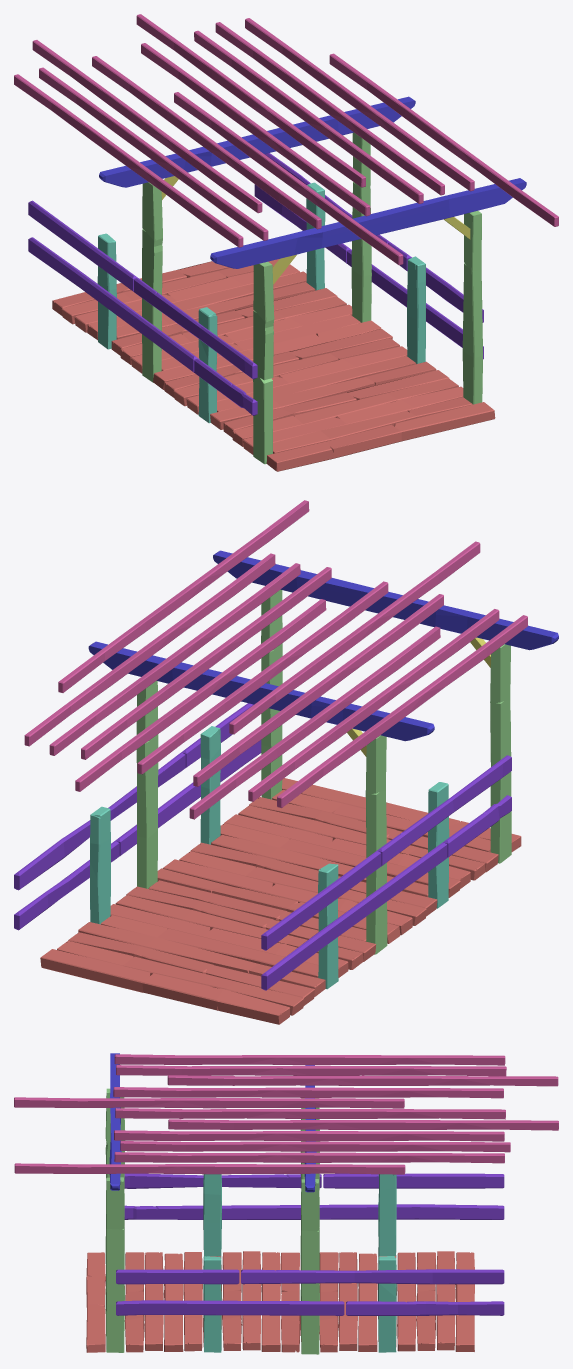
The model's file is wisteria_bridgeLOD_01.fbx.
The picture shows the model from 3 angles, top to bottom: view 1: azimuth 30°, elevation 25°; view 2: azimuth 150°, elevation 25°; view 3: azimuth 270°, elevation 25°; orthographic projection. The views are drawn at different scales.
Visible parts, largest first — view 1: bridge_LOD0.001; view 2: bridge_LOD0.001; view 3: bridge_LOD0.001.
Part boxes in pixels (<box>): bridge_LOD0.001: <box>14,14,558,471</box>; bridge_LOD0.001: <box>14,500,558,1024</box>; bridge_LOD0.001: <box>14,1053,558,1354</box>.
Size of what is drawn, in the model's own units: 327 by 228 by 567.
